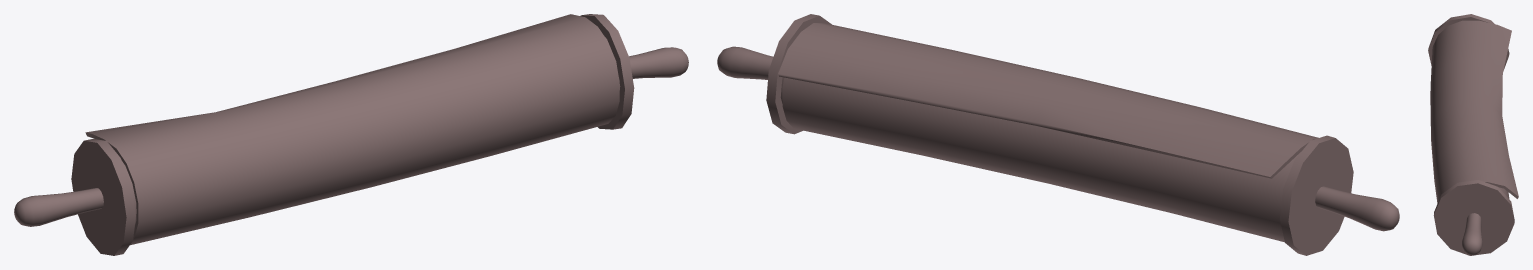
Rendered from Scroll_UV_Shell.fbx.
3 views of the same model, side by side, from view 1: azimuth 30°, elevation 25°; view 2: azimuth 150°, elevation 25°; view 3: azimuth 270°, elevation 25° (orthographic). The views are drawn at different scales.
Parts seen in each view (by area): view 1: polySurface3, polySurface2, polySurface1; view 2: polySurface3, polySurface2, polySurface1; view 3: polySurface3, polySurface1, polySurface2.
Boxes of the visible parts, <box> form: polySurface3: <box>85,14,619,245</box>; polySurface2: <box>14,139,136,255</box>; polySurface1: <box>580,14,688,129</box>; polySurface3: <box>778,23,1318,242</box>; polySurface2: <box>1279,135,1399,255</box>; polySurface1: <box>717,14,831,134</box>; polySurface3: <box>1430,20,1518,203</box>; polySurface1: <box>1433,180,1514,255</box>; polySurface2: <box>1428,14,1509,70</box>.
Bounding box in the file's own units: 48.08 × 7.47 × 8.35.
